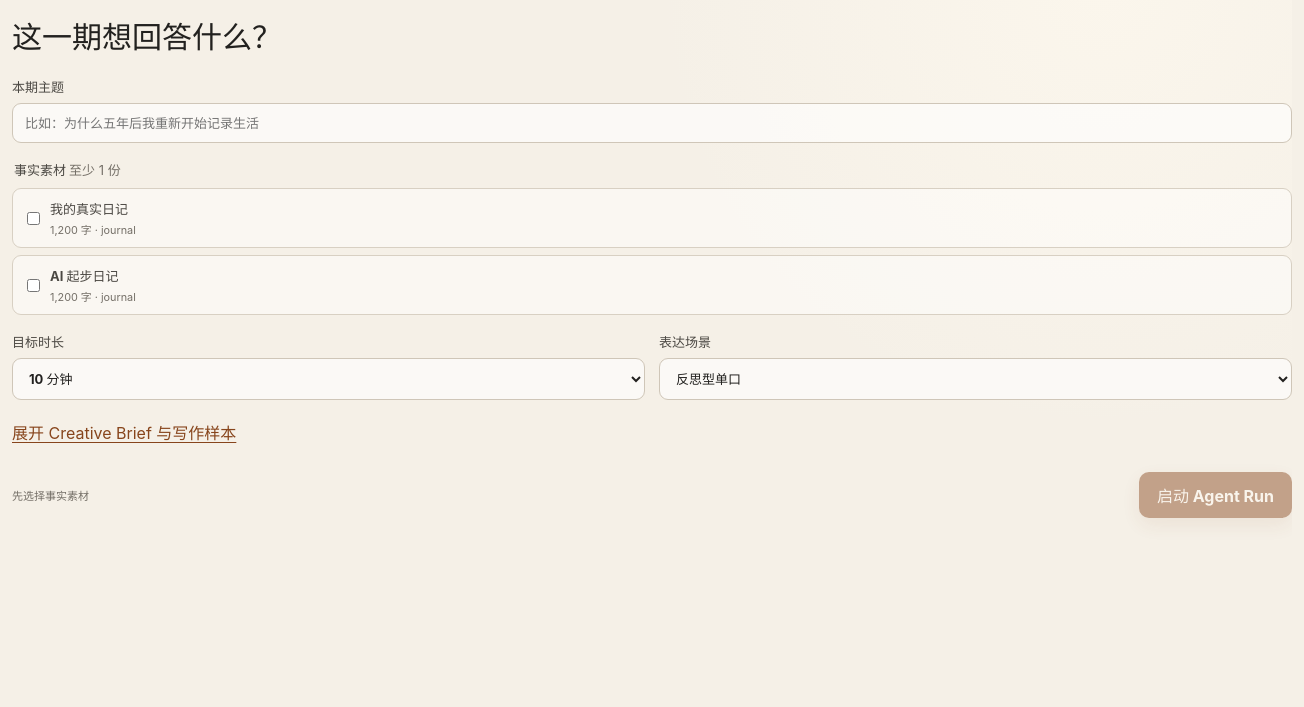
Test: Create Run writing-sample consent › never offers an AI-assisted Source as a writing-style sample
Click the button "展开 Creative Brief 与写作样本" at x=124, y=432, box [12,420,236,444]
(page scrolled)
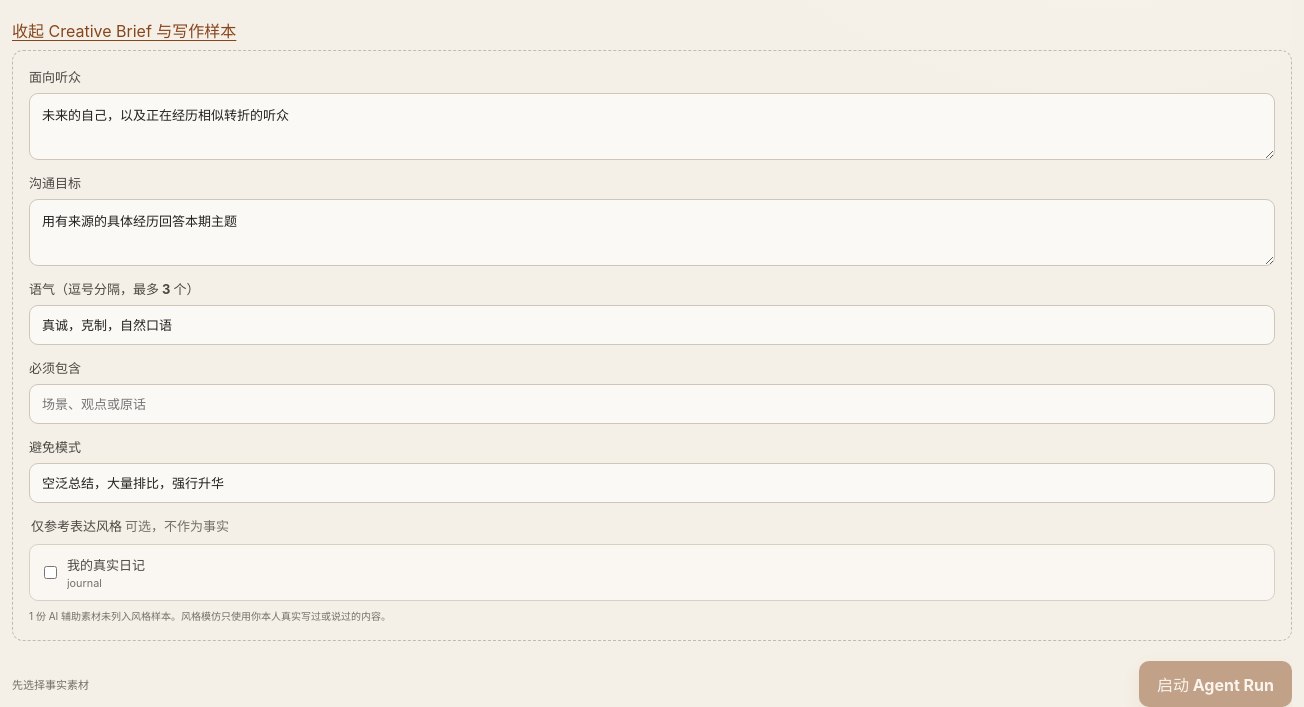
Now the checkbox named "作为风格样本选择：我的真实日记" is shown, box [44,566,57,579]
Now the text "1 份 AI 辅助素材未列入风格样本。风格模仿只使用你本人真实写过或说过的内容。" is shown, box [29,610,391,622]
